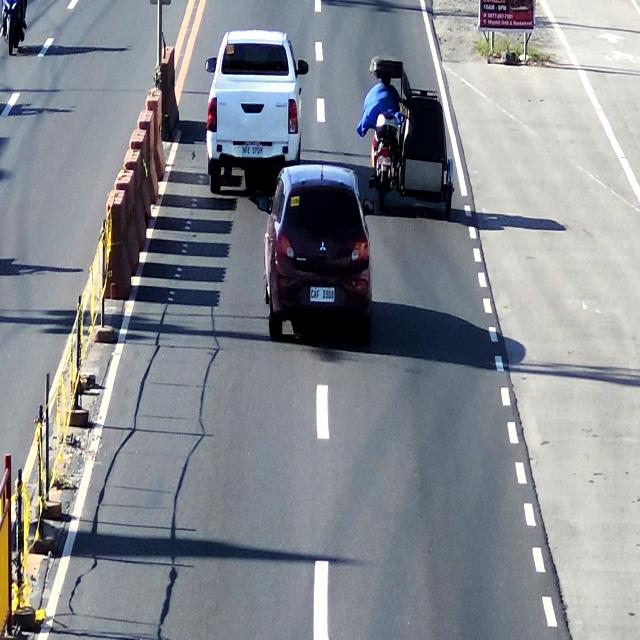Car: (260, 163, 379, 350), (205, 27, 303, 168)
License-Plate: (306, 282, 338, 308), (239, 135, 264, 160)
Tricycle: (367, 58, 456, 220)
